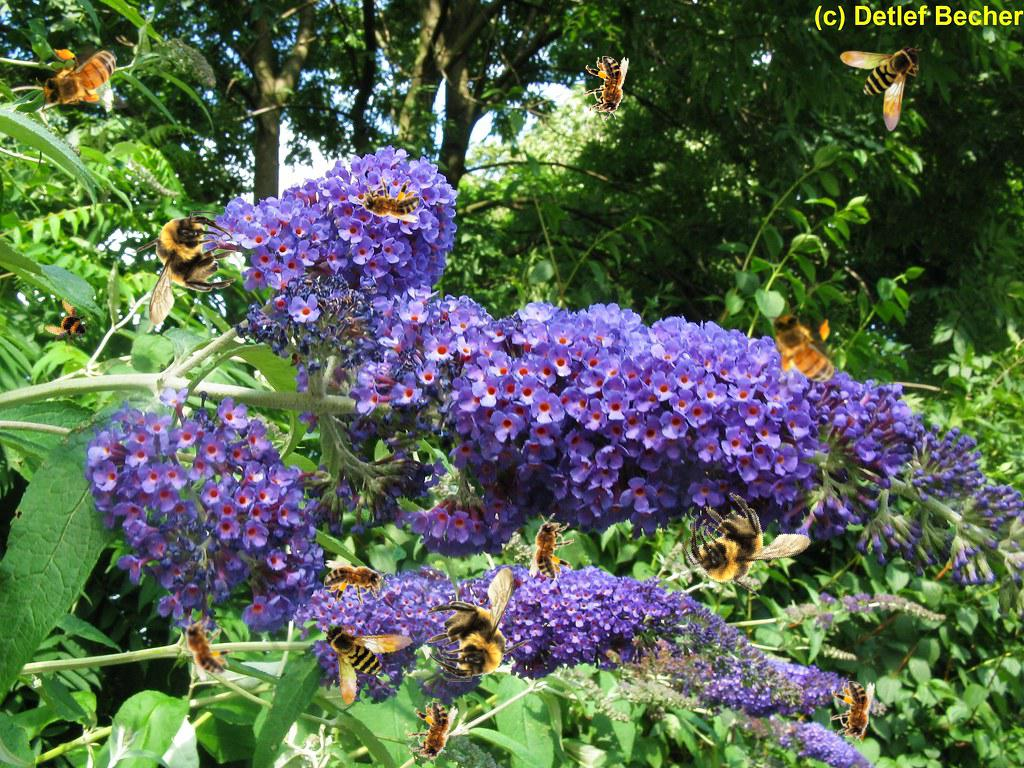Bee: (669, 468, 824, 619), (130, 211, 237, 326), (425, 567, 532, 682), (320, 609, 424, 707), (762, 300, 844, 403), (840, 44, 922, 132), (36, 45, 129, 113), (168, 604, 242, 685), (403, 698, 459, 768), (40, 296, 100, 356), (529, 513, 574, 579), (354, 178, 420, 223), (830, 681, 875, 747), (584, 56, 629, 122), (324, 560, 390, 605)
